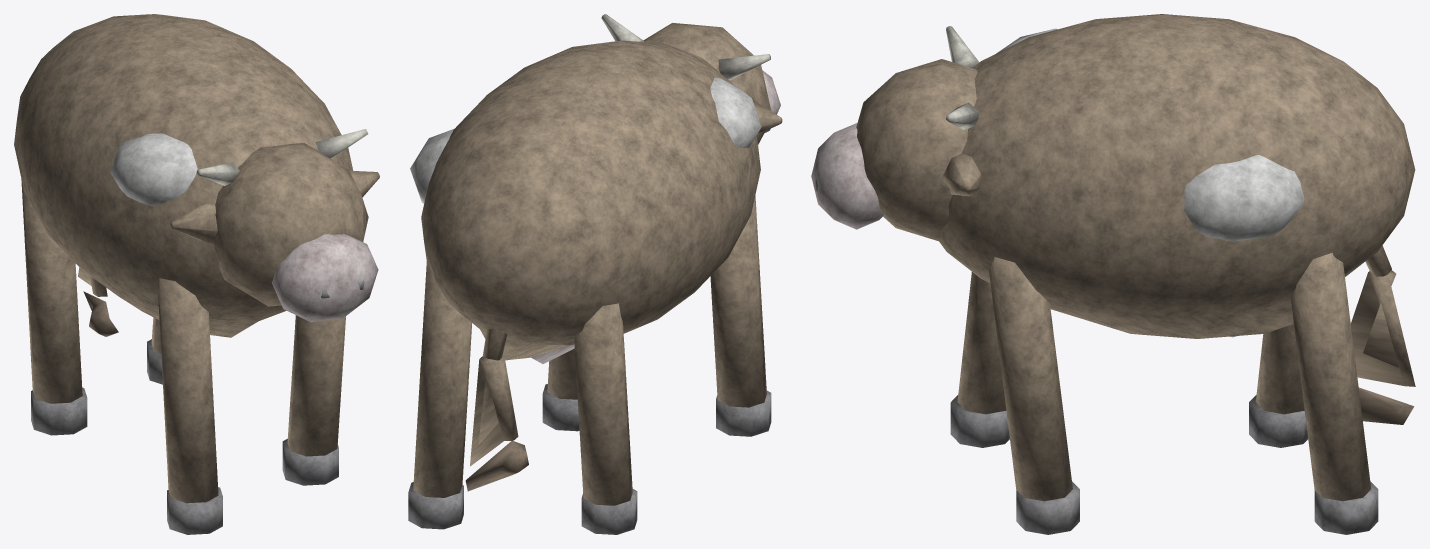
The model's file is mob_sapi_walk4.obj.
3 renders of one model, left to right at view 1: azimuth 30°, elevation 25°; view 2: azimuth 150°, elevation 25°; view 3: azimuth 270°, elevation 25°, orthographic. The views are drawn at different scales.
Parts seen in each view (by area): view 1: mob_sapi; view 2: mob_sapi; view 3: mob_sapi.
Part boxes in pixels (x1,y1,x2,y2): mob_sapi: [14, 14, 379, 534]; mob_sapi: [408, 14, 782, 534]; mob_sapi: [811, 14, 1415, 534].
Bounding box in the file's own units: 1.05 × 1.54 × 1.87.
Materials: 1 (1 with a texture image).
